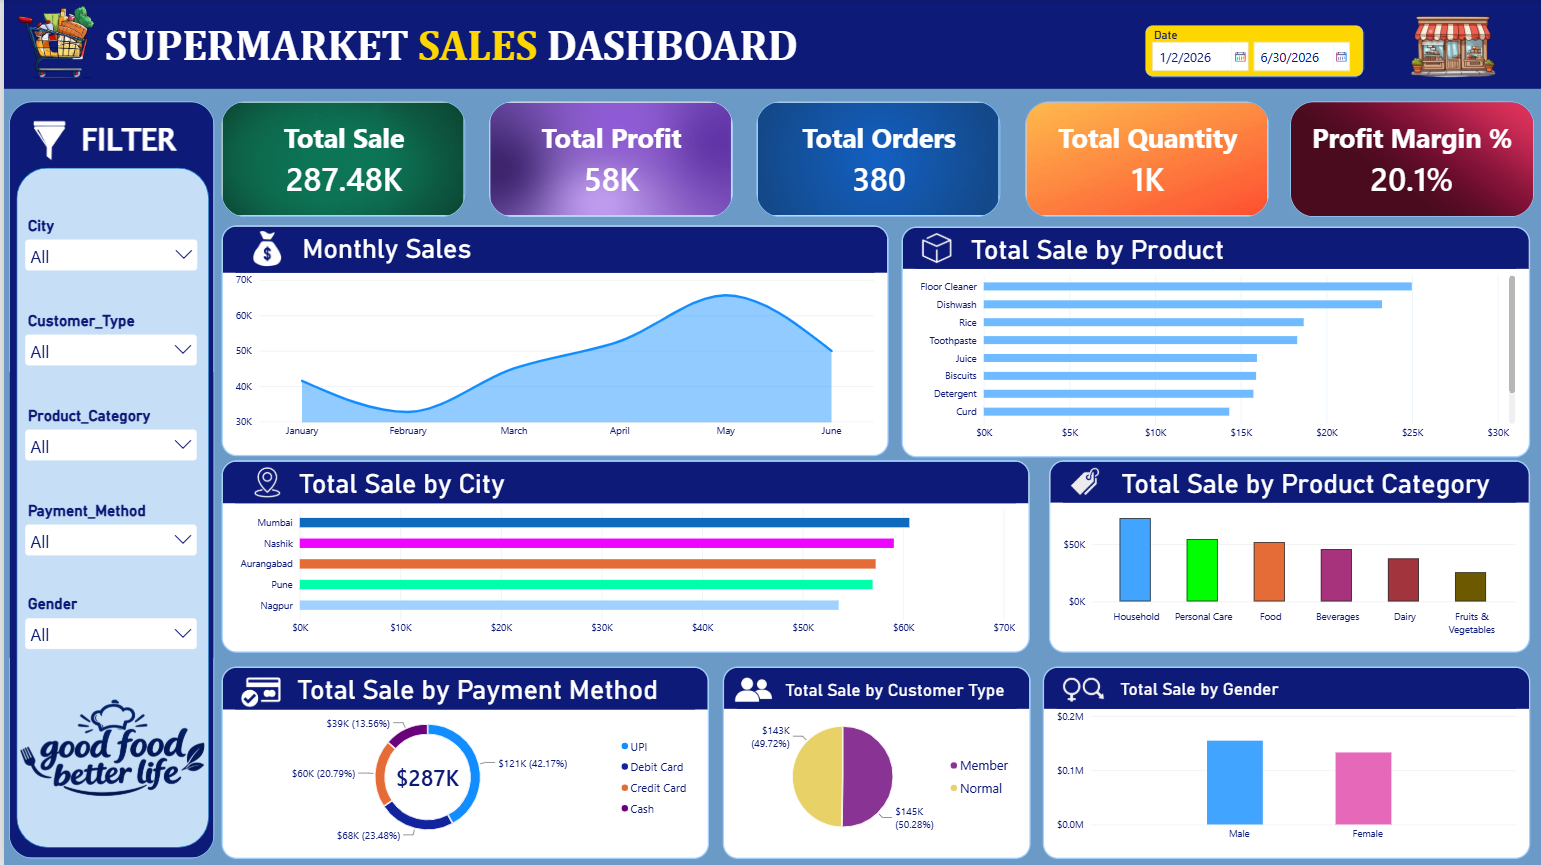

What the dashboard file says about the page in this screenshot:
{"tool":"powerbi","page":{"name":"DASHBOARD","canvas":[1920,1080],"ordinal":0},"visuals":[{"type":"textbox","box":[0,0,1920,112],"z":0},{"type":"image","box":[15,0,128,128],"z":1000},{"type":"shape","box":[7,128,256,944],"z":2000},{"type":"image","box":[1728,0,160,112],"z":3000},{"type":"cardVisual","fields":{"Data":["Sales_Data.Total_Sale"]},"box":[272,128,304,144],"z":4000},{"type":"cardVisual","fields":{"Data":["Sales_Data.Total_Profit"]},"box":[605,128,304,144],"z":5000},{"type":"cardVisual","fields":{"Data":["Sales_Data.Total Orders"]},"box":[939,128,304,144],"z":6000},{"type":"cardVisual","fields":{"Data":["Sales_Data.Profit Margin %"]},"box":[1604,128,304,144],"z":7000},{"type":"cardVisual","fields":{"Data":["Sales_Data.Total_Quantity"]},"box":[1273,128,304,144],"z":8000},{"type":"lineChart","title":"Monthly Total Sales","fields":{"Category":["Sales_Data.Date.Variation.Date Hierarchy.Month","Sales_Data.Date.Variation.Date Hierarchy.Day"],"Y":["Sum(Sales_Data.Total_Sales)"]},"box":[272,282,832,288],"z":9000},{"type":"textbox","box":[288,291,1376,64],"z":10000},{"type":"image","box":[256,256,144,112],"z":11000},{"type":"clusteredBarChart","fields":{"Category":["Sales_Data.Product"],"Y":["Sales_Data.Total_Sale"]},"box":[1120,283,784,288],"z":12000},{"type":"clusteredBarChart","fields":{"Category":["Sales_Data.City"],"Y":["Sales_Data.Total_Sale"]},"box":[272,576,1008,240],"z":13000},{"type":"donutChart","fields":{"Category":["Sales_Data.Payment_Method"],"Y":["Sales_Data.Total_Sale"]},"box":[272,832,608,240],"z":14000},{"type":"pieChart","fields":{"Category":["Sales_Data.Customer_Type"],"Y":["Sales_Data.Total_Sale"]},"box":[896,832,384,240],"z":15000},{"type":"columnChart","fields":{"Category":["Sales_Data.Gender"],"Y":["Sales_Data.Total_Sale"]},"box":[1296,832,608,240],"z":16000},{"type":"clusteredColumnChart","fields":{"Category":["Sales_Data.Product_Category"],"Y":["Sales_Data.Total_Sale"]},"box":[1304,576,600,240],"z":17000},{"type":"textbox","box":[16,148,256,64],"z":18000},{"type":"image","box":[0,144,112,64],"z":19000},{"type":"shape","box":[15,211,240,848],"z":20000},{"type":"slicer","fields":{"Values":["Sales_Data.City"]},"box":[22,272,224,80],"z":21000},{"type":"slicer","fields":{"Values":["Sales_Data.Customer_Type"]},"box":[22,390,223,80],"z":22000},{"type":"slicer","fields":{"Values":["Sales_Data.Product_Category"]},"box":[22,508,223,80],"z":23000},{"type":"slicer","fields":{"Values":["Sales_Data.Payment_Method"]},"box":[22,626,223,80],"z":24000},{"type":"slicer","fields":{"Values":["Sales_Data.Gender"]},"box":[22,744,223,80],"z":25000},{"type":"image","box":[1124,254,80,112],"z":26000},{"type":"textbox","box":[1197,293,528,48],"z":27000},{"type":"image","box":[288,562,80,80],"z":28000},{"type":"textbox","box":[368,585,784,80],"z":29000},{"type":"textbox","box":[1393,585,496,48],"z":30000},{"type":"image","box":[1317,579,64,48],"z":31000},{"type":"image","box":[288,832,64,64],"z":32000},{"type":"textbox","box":[357,842,496,48],"z":33000},{"type":"image","box":[868,796,128,112],"z":34000},{"type":"textbox","box":[975,849,352,48],"z":35000},{"type":"image","box":[1314,829,64,64],"z":36000},{"type":"textbox","box":[1392,848,432,48],"z":37000},{"type":"slicer","fields":{"Values":["Sales_Data.Date"]},"box":[1424,32,272,64],"z":38000},{"type":"textbox","box":[1434,34,48,24],"z":38001},{"type":"image","box":[15,816,240,264],"z":38002}]}

Visuals, with their boxes in screenshot pixels (x1, y1, x2, y2), scaled from the page's 1920x1080 canvas onto the 1541x865 screenshot:
textbox: rect(0, 0, 1540, 90)
image: rect(12, 0, 115, 103)
shape: rect(6, 103, 211, 859)
image: rect(1387, 0, 1515, 90)
cardVisual - Sales_Data.Total_Sale: rect(218, 103, 462, 218)
cardVisual - Sales_Data.Total_Profit: rect(486, 103, 730, 218)
cardVisual - Sales_Data.Total Orders: rect(754, 103, 998, 218)
cardVisual - Sales_Data.Profit Margin %: rect(1287, 103, 1531, 218)
cardVisual - Sales_Data.Total_Quantity: rect(1022, 103, 1266, 218)
"Monthly Total Sales" lineChart: rect(218, 226, 886, 457)
textbox: rect(231, 233, 1336, 284)
image: rect(205, 205, 321, 295)
clusteredBarChart - Sales_Data.Product x Sales_Data.Total_Sale: rect(899, 227, 1528, 457)
clusteredBarChart - Sales_Data.City x Sales_Data.Total_Sale: rect(218, 461, 1027, 654)
donutChart - Sales_Data.Payment_Method x Sales_Data.Total_Sale: rect(218, 666, 706, 859)
pieChart - Sales_Data.Customer_Type x Sales_Data.Total_Sale: rect(719, 666, 1027, 859)
columnChart - Sales_Data.Gender x Sales_Data.Total_Sale: rect(1040, 666, 1528, 859)
clusteredColumnChart - Sales_Data.Product_Category x Sales_Data.Total_Sale: rect(1047, 461, 1528, 654)
textbox: rect(13, 119, 218, 170)
image: rect(0, 115, 90, 167)
shape: rect(12, 169, 205, 848)
slicer - Sales_Data.City: rect(18, 218, 197, 282)
slicer - Sales_Data.Customer_Type: rect(18, 312, 197, 376)
slicer - Sales_Data.Product_Category: rect(18, 407, 197, 471)
slicer - Sales_Data.Payment_Method: rect(18, 501, 197, 565)
slicer - Sales_Data.Gender: rect(18, 596, 197, 660)
image: rect(902, 203, 966, 293)
textbox: rect(961, 235, 1384, 273)
image: rect(231, 450, 295, 514)
textbox: rect(295, 469, 925, 533)
textbox: rect(1118, 469, 1516, 507)
image: rect(1057, 464, 1108, 502)
image: rect(231, 666, 283, 718)
textbox: rect(287, 674, 685, 713)
image: rect(697, 638, 799, 727)
textbox: rect(783, 680, 1065, 718)
image: rect(1055, 664, 1106, 715)
textbox: rect(1117, 679, 1464, 718)
slicer - Sales_Data.Date: rect(1143, 26, 1361, 77)
textbox: rect(1151, 27, 1189, 46)
image: rect(12, 654, 205, 864)
